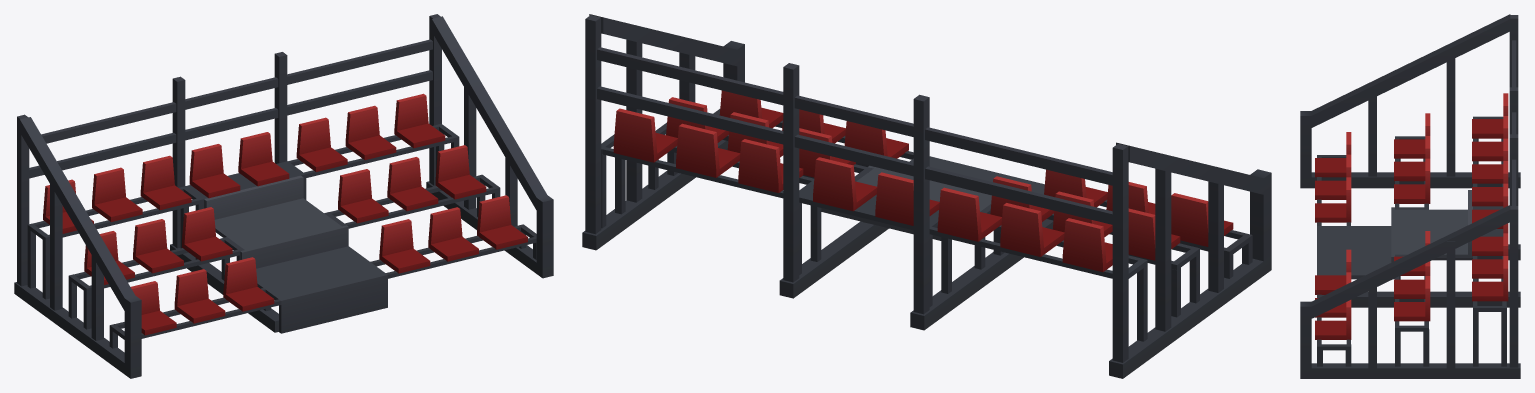
The model's file is chair.fbx.
3 renders of one model, left to right at view 1: azimuth 30°, elevation 25°; view 2: azimuth 150°, elevation 25°; view 3: azimuth 270°, elevation 25°, orthographic. The views are drawn at different scales.
Parts seen in each view (by area): view 1: polySurface11241; view 2: polySurface11241; view 3: polySurface11241.
Boxes of the visible parts, x1=… form: polySurface11241: x1=14, y1=14, x2=553, y2=378; polySurface11241: x1=582, y1=14, x2=1271, y2=378; polySurface11241: x1=1300, y1=14, x2=1520, y2=378.
Bounding box in the file's own units: 46.65 × 18.82 × 22.22.
